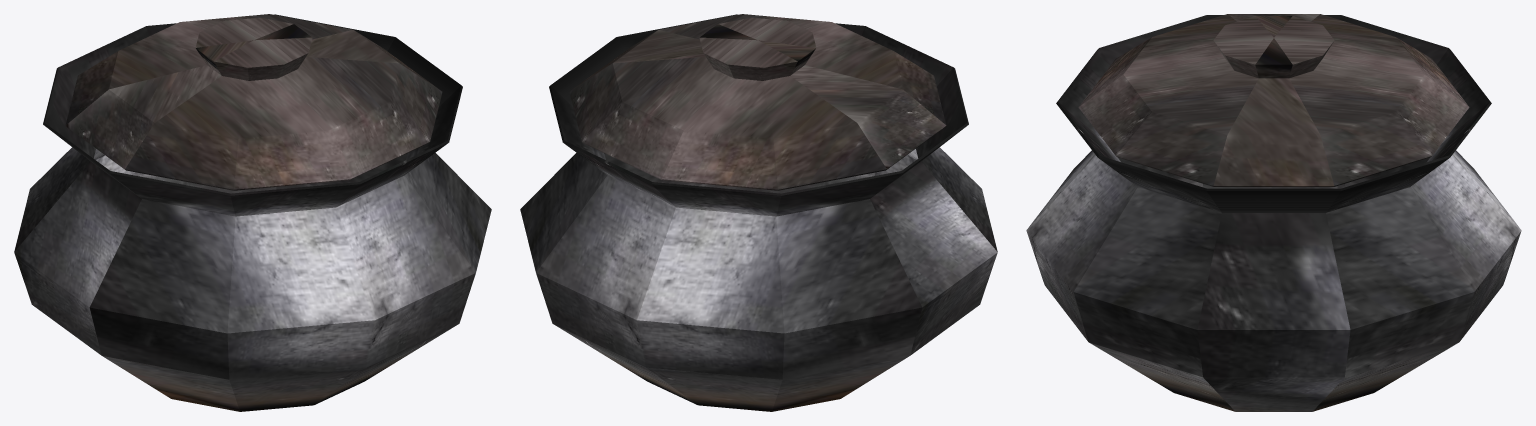
The model's file is Palayok.fbx.
The picture shows the model from 3 angles, left to right: view 1: azimuth 30°, elevation 25°; view 2: azimuth 150°, elevation 25°; view 3: azimuth 270°, elevation 25°; orthographic projection.
Parts seen in each view (by area): view 1: Palayok; view 2: Palayok; view 3: Palayok.
Boxes of the visible parts, left/top/right/bottom form: Palayok: left=14, top=14, right=491, bottom=411; Palayok: left=520, top=14, right=997, bottom=411; Palayok: left=1026, top=14, right=1521, bottom=411.
Size of the model in its own units: 1.9 by 2 by 1.55.
Materials: 1 (1 with a texture image).
